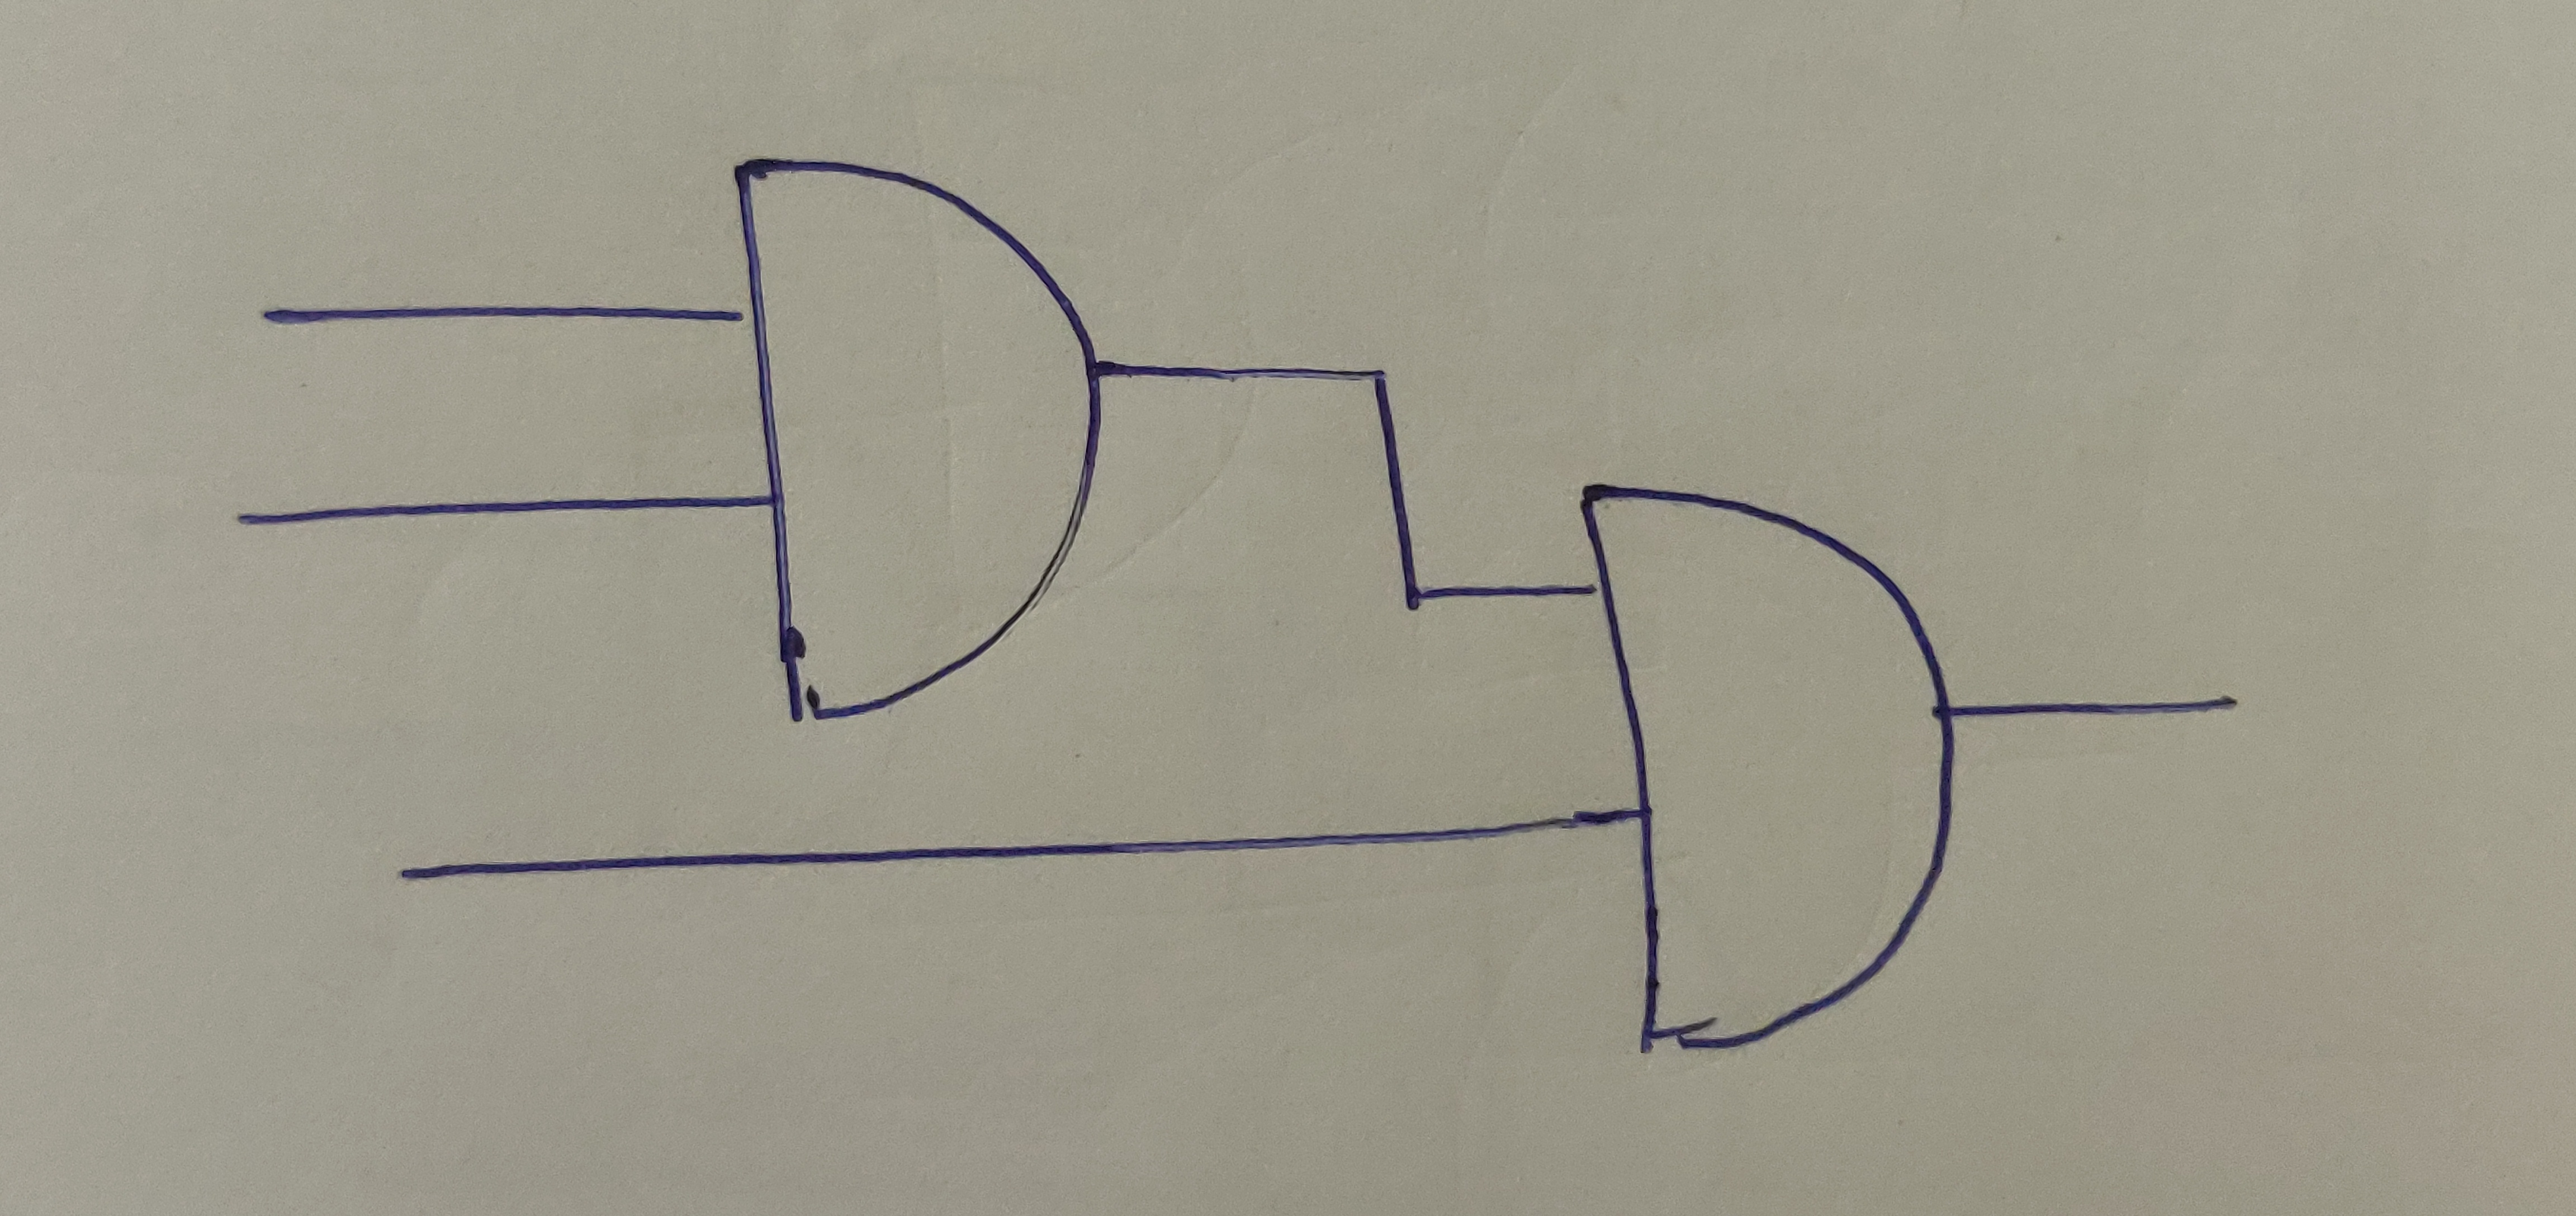and: (1582, 481, 1955, 1053), (736, 153, 1102, 725)
